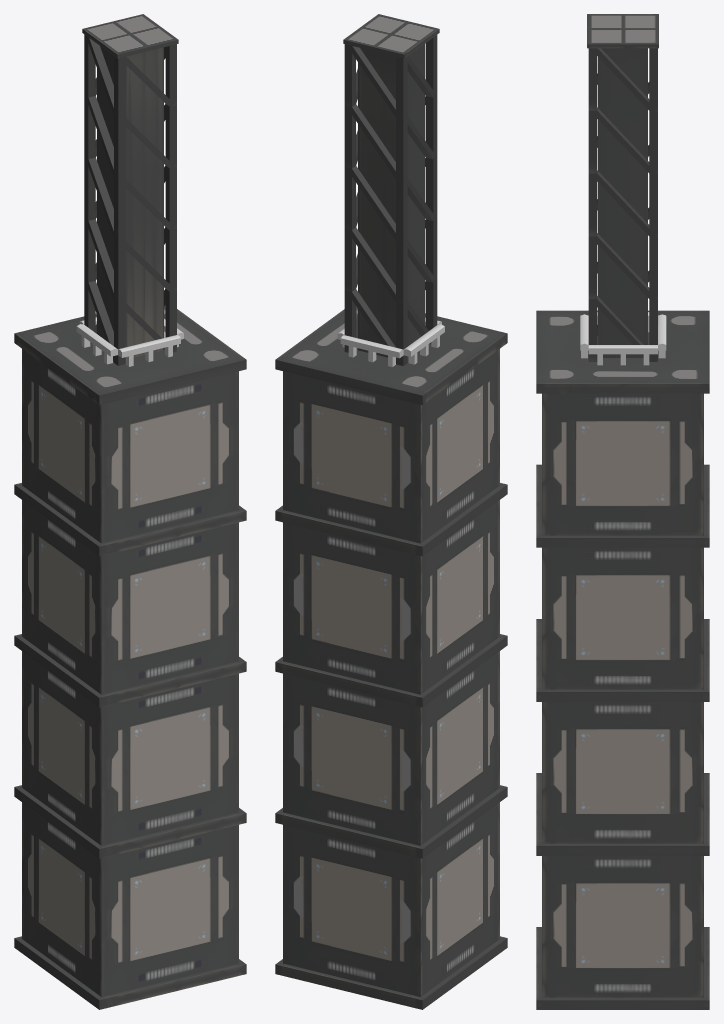
File: Sci-Fi_Prefab_Var5.fbx
3 renders of one model, left to right at view 1: azimuth 30°, elevation 25°; view 2: azimuth 150°, elevation 25°; view 3: azimuth 270°, elevation 25°, orthographic.
Visible parts, largest first — view 1: ProjectRG_Environment_Sci-Fi_TowerTopBlockPiece_Var3.004, ProjectRG_Environment_Sci-Fi_TowerTopBlockPiece_Var3.001, ProjectRG_Environment_Sci-Fi_TowerTopBlockPiece_Var3.002, ProjectRG_Environment_Sci-Fi_TowerTopBlockPiece_Var3.003, ProjectRG_Environment_Sci-Fi_TowerPanel_Var3_B.005, ProjectRG_Environment_Sci-Fi_TowerPanel_Var1_A.001, ProjectRG_Environment_Sci-Fi_FrameTower.003, ProjectRG_Environment_Sci-Fi_FrameTower.002, ProjectRG_Environment_Sci-Fi_FrameTower.004, ProjectRG_Environment_Sci-Fi_TowerPanel_Var3_B.002, ProjectRG_Environment_Sci-Fi_TowerPanel_Var3_B.003, ProjectRG_Environment_Sci-Fi_TowerPanel_Var3_B.004 (+6 smaller); view 2: ProjectRG_Environment_Sci-Fi_TowerTopBlockPiece_Var3.004, ProjectRG_Environment_Sci-Fi_TowerTopBlockPiece_Var3.001, ProjectRG_Environment_Sci-Fi_TowerTopBlockPiece_Var3.002, ProjectRG_Environment_Sci-Fi_TowerTopBlockPiece_Var3.003, ProjectRG_Environment_Sci-Fi_TowerPanel_Var3_B.005, ProjectRG_Environment_Sci-Fi_TowerPanel_Var1_A.001, ProjectRG_Environment_Sci-Fi_FrameTower.004, ProjectRG_Environment_Sci-Fi_FrameTower.002, ProjectRG_Environment_Sci-Fi_FrameTower.003, ProjectRG_Environment_Sci-Fi_FrameTower.005, ProjectRG_Environment_Sci-Fi_TowerPanel_Var3_B.002, ProjectRG_Environment_Sci-Fi_TowerPanel_Var3_B.003 (+6 smaller); view 3: ProjectRG_Environment_Sci-Fi_TowerTopBlockPiece_Var3.003, ProjectRG_Environment_Sci-Fi_TowerTopBlockPiece_Var3.004, ProjectRG_Environment_Sci-Fi_TowerTopBlockPiece_Var3.001, ProjectRG_Environment_Sci-Fi_TowerTopBlockPiece_Var3.002, ProjectRG_Environment_Sci-Fi_TowerPanel_Var3_B.005, ProjectRG_Environment_Sci-Fi_TowerPanel_Var1_A.001, ProjectRG_Environment_Sci-Fi_TowerPanel_Var3_B.004, ProjectRG_Environment_Sci-Fi_TowerPanel_Var3_B.001, ProjectRG_Environment_Sci-Fi_TowerPanel_Var3_B.002, ProjectRG_Environment_Sci-Fi_TowerPanel_Var3_B.003, ProjectRG_Environment_Sci-Fi_TowerPanel_Var0_A.002, ProjectRG_Environment_Sci-Fi_FrameTower.002 (+5 smaller).
Part boxes in pixels (x1,y1,x2,y2): ProjectRG_Environment_Sci-Fi_TowerTopBlockPiece_Var3.004: [22, 349, 238, 543]; ProjectRG_Environment_Sci-Fi_TowerTopBlockPiece_Var3.001: [22, 802, 238, 996]; ProjectRG_Environment_Sci-Fi_TowerTopBlockPiece_Var3.002: [22, 651, 238, 845]; ProjectRG_Environment_Sci-Fi_TowerTopBlockPiece_Var3.003: [22, 500, 238, 694]; ProjectRG_Environment_Sci-Fi_TowerPanel_Var3_B.005: [97, 46, 163, 357]; ProjectRG_Environment_Sci-Fi_TowerPanel_Var1_A.001: [14, 305, 246, 405]; ProjectRG_Environment_Sci-Fi_FrameTower.003: [84, 156, 176, 242]; ProjectRG_Environment_Sci-Fi_FrameTower.002: [84, 218, 176, 304]; ProjectRG_Environment_Sci-Fi_FrameTower.004: [84, 95, 176, 180]; ProjectRG_Environment_Sci-Fi_TowerPanel_Var3_B.002: [14, 785, 246, 858]; ProjectRG_Environment_Sci-Fi_TowerPanel_Var3_B.003: [14, 634, 246, 707]; ProjectRG_Environment_Sci-Fi_TowerPanel_Var3_B.004: [14, 483, 246, 556]; ProjectRG_Environment_Sci-Fi_TowerTopBlockPiece_Var3.004: [283, 349, 499, 543]; ProjectRG_Environment_Sci-Fi_TowerTopBlockPiece_Var3.001: [283, 802, 499, 996]; ProjectRG_Environment_Sci-Fi_TowerTopBlockPiece_Var3.002: [283, 651, 499, 845]; ProjectRG_Environment_Sci-Fi_TowerTopBlockPiece_Var3.003: [283, 500, 499, 694]; ProjectRG_Environment_Sci-Fi_TowerPanel_Var3_B.005: [358, 44, 424, 357]; ProjectRG_Environment_Sci-Fi_TowerPanel_Var1_A.001: [275, 306, 507, 405]; ProjectRG_Environment_Sci-Fi_FrameTower.004: [344, 95, 437, 181]; ProjectRG_Environment_Sci-Fi_FrameTower.002: [344, 218, 437, 304]; ProjectRG_Environment_Sci-Fi_FrameTower.003: [344, 157, 437, 242]; ProjectRG_Environment_Sci-Fi_FrameTower.005: [344, 35, 437, 119]; ProjectRG_Environment_Sci-Fi_TowerPanel_Var3_B.002: [275, 785, 507, 858]; ProjectRG_Environment_Sci-Fi_TowerPanel_Var3_B.003: [275, 634, 507, 707]; ProjectRG_Environment_Sci-Fi_TowerTopBlockPiece_Var3.003: [542, 547, 703, 689]; ProjectRG_Environment_Sci-Fi_TowerTopBlockPiece_Var3.004: [542, 393, 703, 535]; ProjectRG_Environment_Sci-Fi_TowerTopBlockPiece_Var3.001: [542, 856, 703, 997]; ProjectRG_Environment_Sci-Fi_TowerTopBlockPiece_Var3.002: [542, 702, 703, 843]; ProjectRG_Environment_Sci-Fi_TowerPanel_Var3_B.005: [598, 48, 647, 357]; ProjectRG_Environment_Sci-Fi_TowerPanel_Var1_A.001: [536, 310, 709, 393]; ProjectRG_Environment_Sci-Fi_TowerPanel_Var3_B.004: [536, 464, 709, 547]; ProjectRG_Environment_Sci-Fi_TowerPanel_Var3_B.001: [536, 927, 709, 1009]; ProjectRG_Environment_Sci-Fi_TowerPanel_Var3_B.002: [536, 773, 709, 855]; ProjectRG_Environment_Sci-Fi_TowerPanel_Var3_B.003: [536, 619, 709, 701]; ProjectRG_Environment_Sci-Fi_TowerPanel_Var0_A.002: [587, 14, 658, 48]; ProjectRG_Environment_Sci-Fi_FrameTower.002: [588, 207, 657, 299].
Bounding box in the file's own units: 500 × 3006 × 500.
